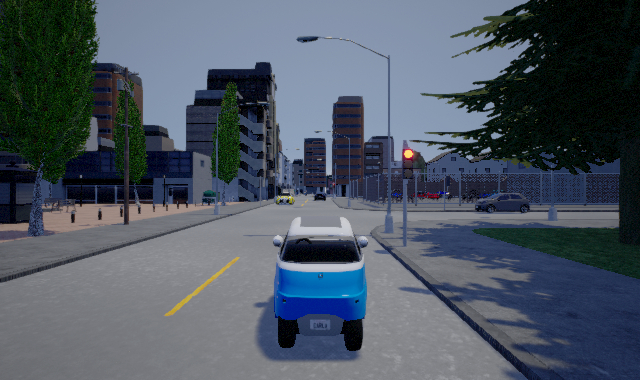traffic_light: (402, 148, 413, 178)
vehicle: (273, 216, 368, 351), (475, 191, 530, 213), (313, 189, 328, 204), (276, 191, 293, 203)
